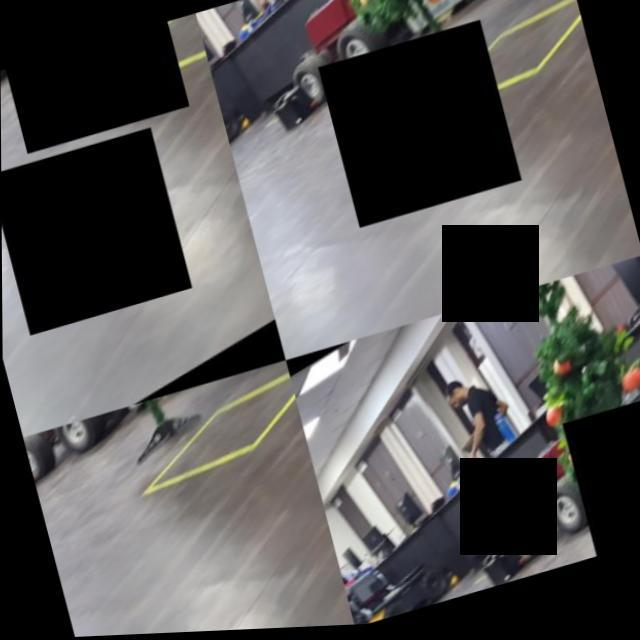Tree: (467, 261, 640, 582), (318, 1, 516, 79)
